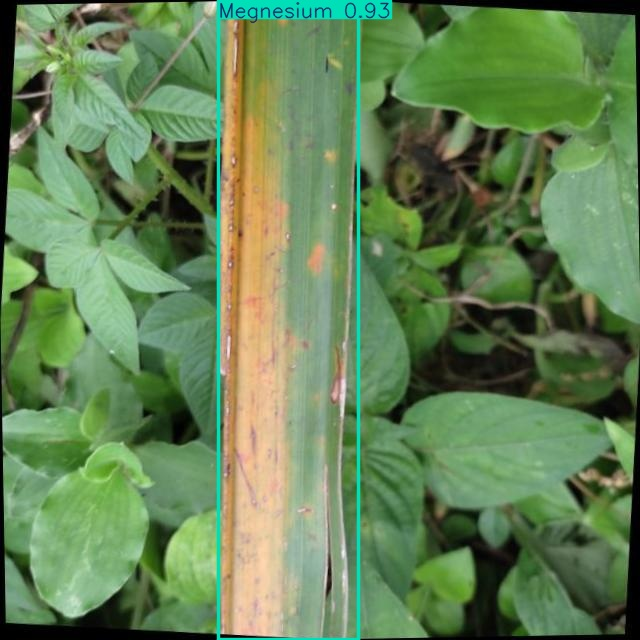Megnesium: (218, 0, 359, 639)
